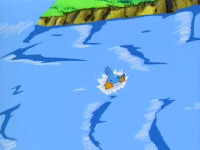mudkip: (100, 64, 128, 93)
